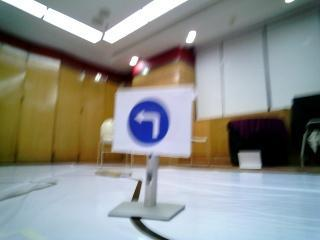left: (117, 90, 190, 155)
